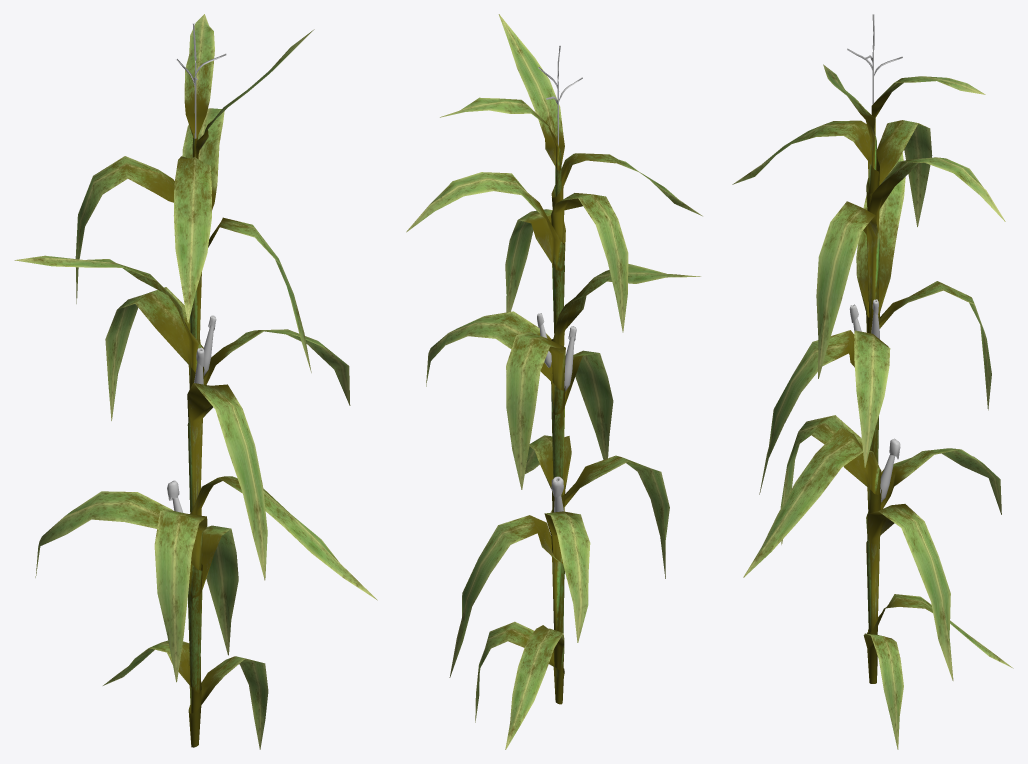
File: PorumbStage3.fbx
3 renders of one model, left to right at view 1: azimuth 30°, elevation 25°; view 2: azimuth 150°, elevation 25°; view 3: azimuth 270°, elevation 25°, orthographic. The views are drawn at different scales.
Visible parts, largest first — view 1: SM_Plant_01; view 2: SM_Plant_01; view 3: SM_Plant_01.
Part boxes in pixels (left/top/right/bottom): SM_Plant_01: left=14, top=14, right=377, bottom=749; SM_Plant_01: left=406, top=14, right=702, bottom=749; SM_Plant_01: left=732, top=14, right=1013, bottom=749.
Size of the model in its own units: 75.74 by 62.56 by 171.
